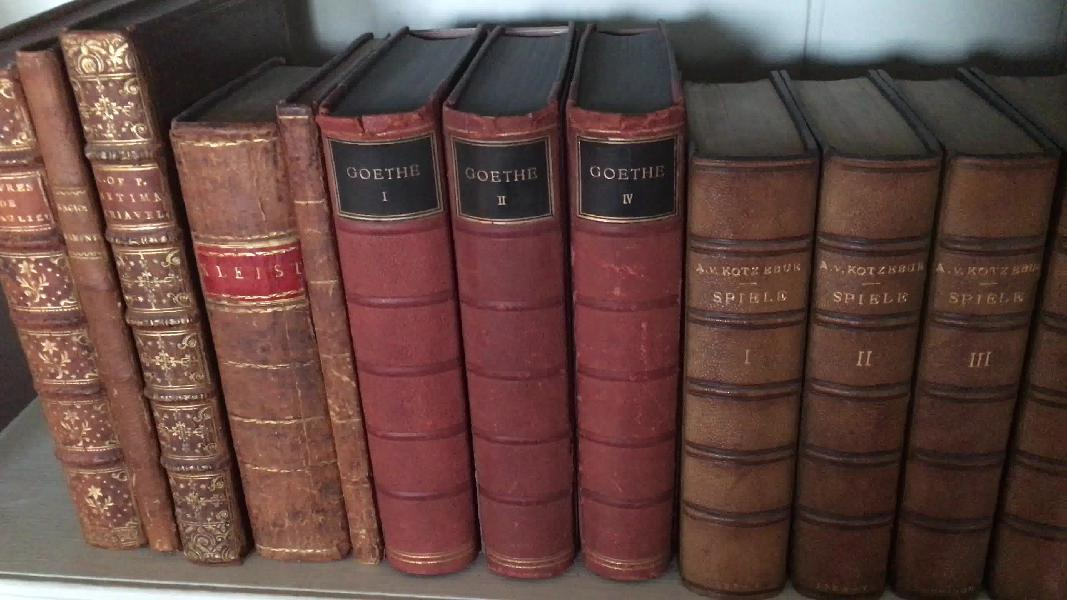Aa6-10: (282, 104, 393, 563)
Aa6-11_13: (316, 109, 683, 593)
Aa6-14_17: (687, 156, 1066, 600)
Aa6-7: (18, 50, 193, 551)
Aa6-8: (62, 32, 242, 551)
Aa6-9: (168, 122, 347, 558)
